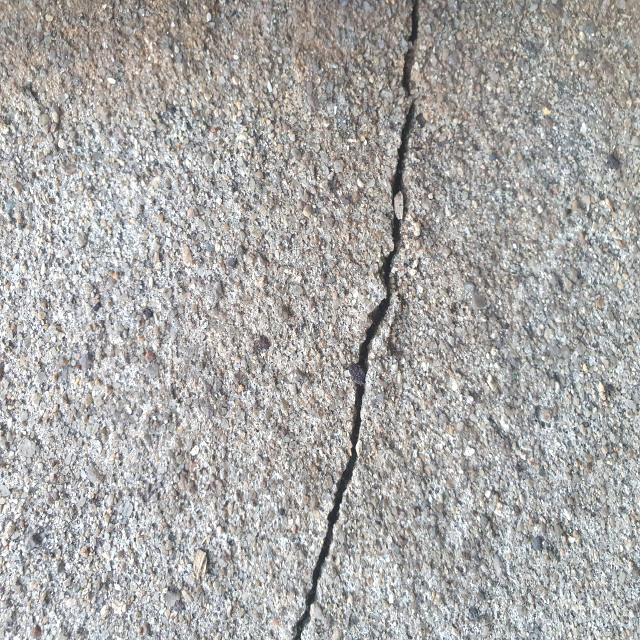SurfaceCrack: (253, 0, 472, 640)
